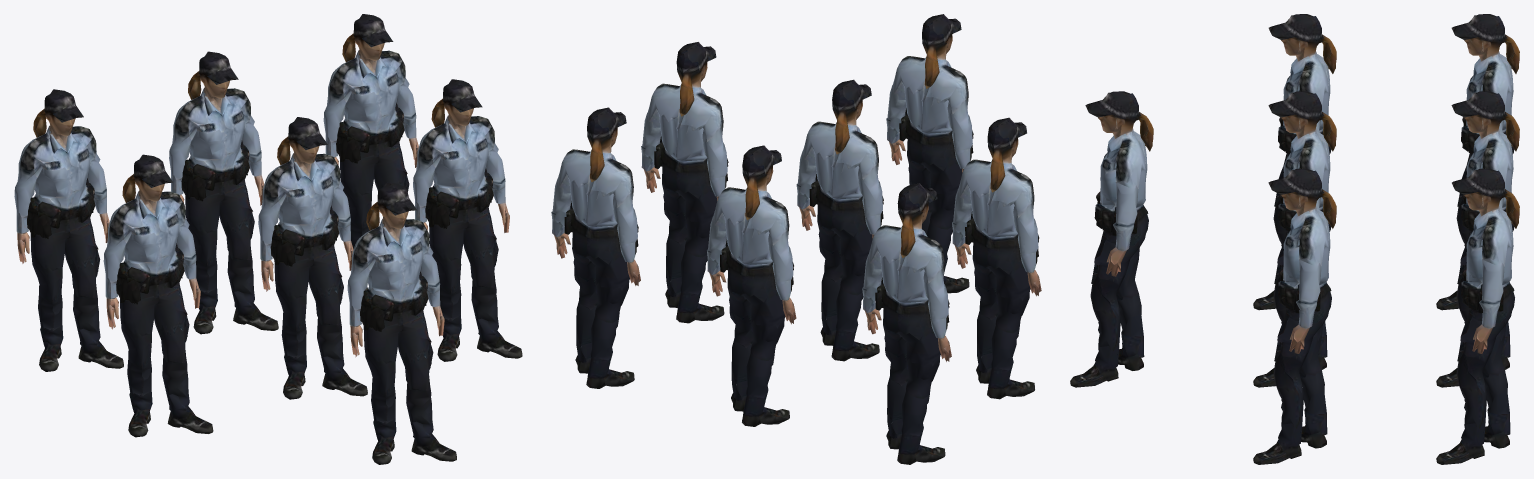
Rendered from parade_aus_idle_lod2.glb.
3 views of the same model, side by side, from view 1: azimuth 30°, elevation 25°; view 2: azimuth 150°, elevation 25°; view 3: azimuth 270°, elevation 25° (orthographic). The views are drawn at different scales.
Parts seen in each view (by area): view 1: tripo_node_89edf845-0b6e-440e-a772-09aa430884d0; view 2: tripo_node_89edf845-0b6e-440e-a772-09aa430884d0; view 3: tripo_node_89edf845-0b6e-440e-a772-09aa430884d0.
Boxes of the visible parts, <box> form: tripo_node_89edf845-0b6e-440e-a772-09aa430884d0: <box>14,14,522,464</box>; tripo_node_89edf845-0b6e-440e-a772-09aa430884d0: <box>551,14,1041,464</box>; tripo_node_89edf845-0b6e-440e-a772-09aa430884d0: <box>1070,14,1519,464</box>.
Bounding box in the file's own units: 1.54 × 0.9963 × 1.47.
1 material, 1 textured.
